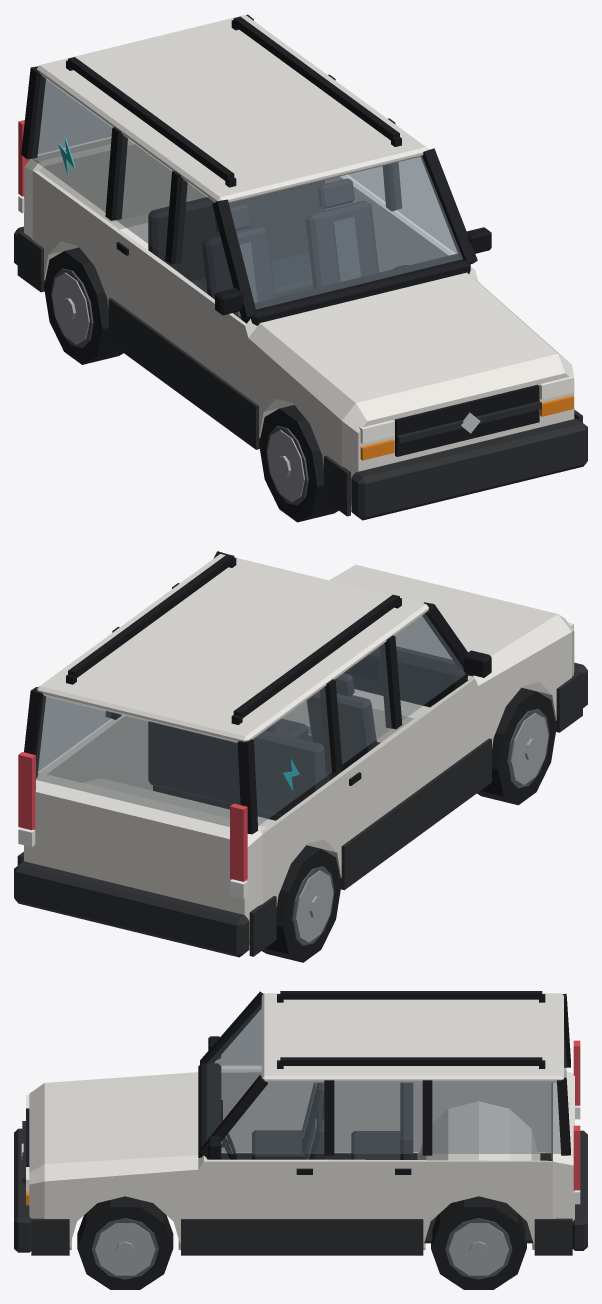
Rendered from zyzz.glb.
3 renders of one model, top to bottom at view 1: azimuth 30°, elevation 25°; view 2: azimuth 150°, elevation 25°; view 3: azimuth 270°, elevation 25°, orthographic. The views are drawn at different scales.
Visible parts, largest first — view 1: Details, Body__Shell, Cabin__Glass, Cabin__Bench__34373C, Wheel_RR, Wheel_FR, Cabin__Dash__1B1D20, Driver_Seat__Seat__34373C, Cabin__Seat__34373C, Door_Driver__Glass, Lamps, Door_Driver__Shell (+1 smaller); view 2: Details, Body__Shell, Cabin__Glass, Cabin__Bench__34373C, Wheel_RR, Wheel_FR, Cabin__Dash__1B1D20, Cabin__Seat__34373C, Lamps, Driver_Seat__Seat__34373C; view 3: Body__Shell, Details, Cabin__Glass, Door_Driver__Shell, Wheel_FL, Wheel_RL, Door_Driver__Glass, Door_Driver__Clad__2E3033, Cabin__Bench__34373C, Cabin__Seat__34373C, Cabin__Dash__1B1D20, Lamps (+2 smaller).
Boxes of the visible parts, x1,y1,x2,y2 form: Details: (14,14,587,520); Body__Shell: (24,138,574,504); Cabin__Glass: (31,75,462,309); Cabin__Bench__34373C: (148,180,324,297); Wheel_RR: (44,247,123,364); Wheel_FR: (259,405,338,522); Cabin__Dash__1B1D20: (242,254,470,325); Driver_Seat__Seat__34373C: (305,178,378,288); Cabin__Seat__34373C: (202,204,275,319); Door_Driver__Glass: (393,157,457,253); Lamps: (18,120,573,460); Door_Driver__Shell: (393,214,453,267); Details: (14,551,587,957); Body__Shell: (24,564,574,944); Cabin__Glass: (36,614,465,826); Cabin__Bench__34373C: (148,721,324,820); Wheel_RR: (262,845,341,962); Wheel_FR: (477,687,556,805); Cabin__Dash__1B1D20: (344,646,467,707); Cabin__Seat__34373C: (306,673,380,779); Lamps: (18,622,573,898); Driver_Seat__Seat__34373C: (265,718,308,740); Body__Shell: (29,1069,574,1249); Details: (14,991,587,1255); Cabin__Glass: (206,1004,566,1153); Door_Driver__Shell: (204,1159,329,1218); Wheel_FL: (77,1196,173,1289); Wheel_RL: (431,1196,526,1289); Door_Driver__Glass: (221,1082,324,1153); Door_Driver__Clad__2E3033: (204,1219,329,1255); Cabin__Bench__34373C: (351,1082,413,1159); Cabin__Seat__34373C: (252,1082,324,1159); Cabin__Dash__1B1D20: (198,1063,221,1159); Lamps: (26,1040,580,1205).
Bounding box in the file's own units: 2.36 × 2.19 × 5.26.
9 materials, 4 textured.
